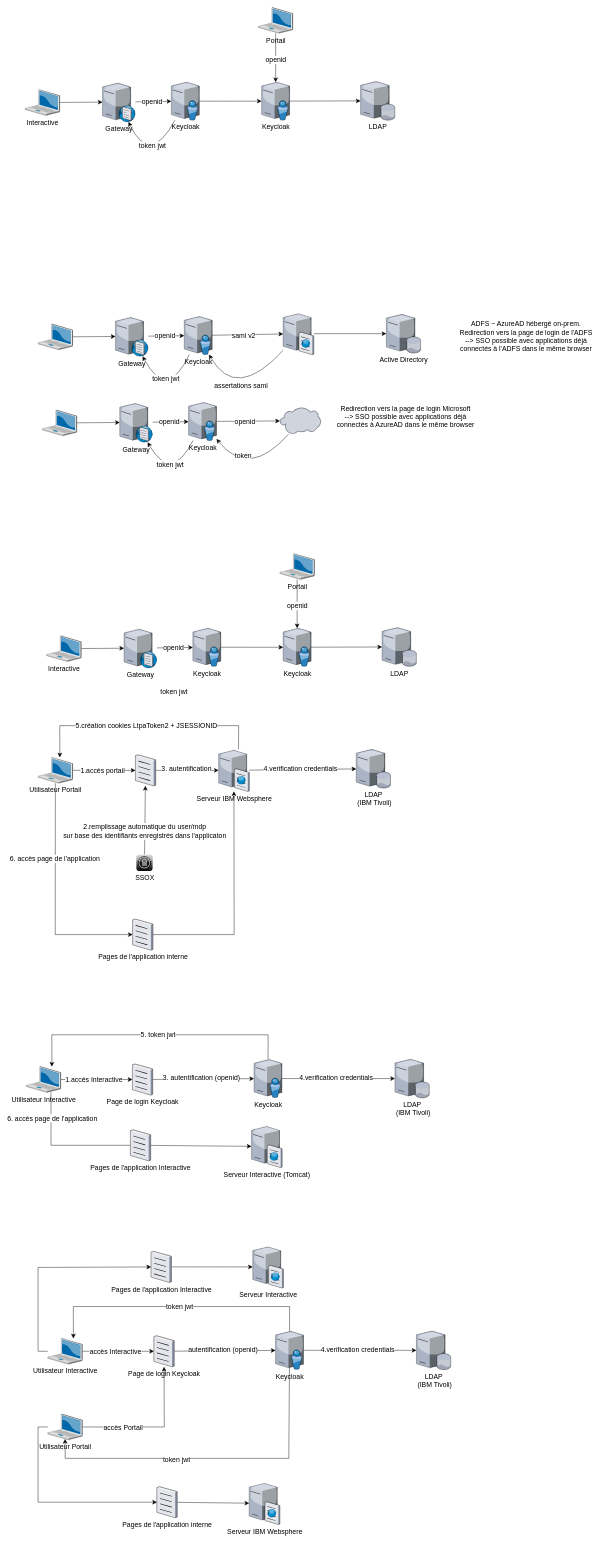
Some shapes in this 609 by 1543 pixel diagram are drawn without their labels. The shapes that lost their labels are listed below. From the top down, each one's box as (x1, y1, x2, y2) in pixels, then its label:
(283, 313, 313, 354): Active Directory Federation Service (ADFS)
(280, 407, 321, 434): AzureAD
(135, 755, 155, 786): Page de login du portail
